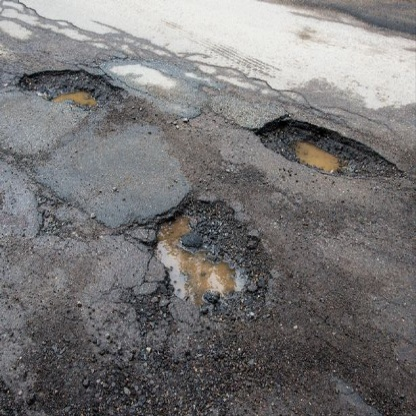pothole: (131, 186, 279, 336), (246, 113, 412, 193), (8, 64, 130, 117)
